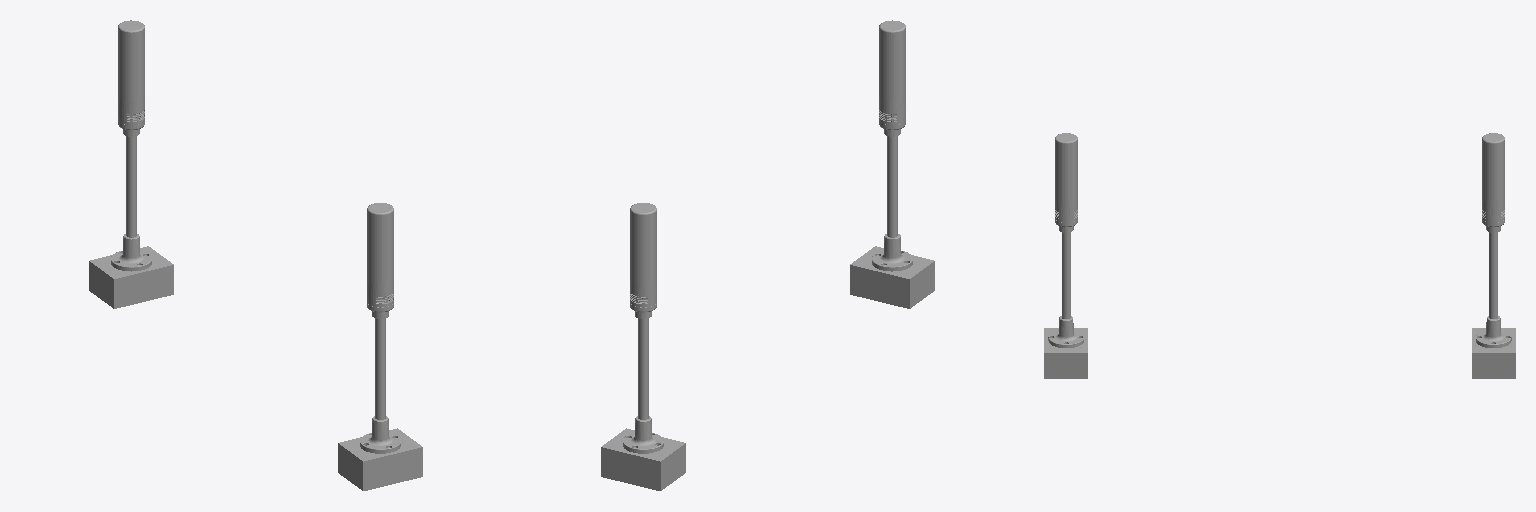
The robot description file, URDF, robot "palletizer_model":
<?xml version="1.0" ?>
<robot name="palletizer_model" xmlns:xacro="http://www.ros.org/wiki/xacro">
	<link name ="world"/>
	<joint name="light_ang_joint" type="fixed">
		<parent link="world"/>
		<child link="light_angle"/>
		<origin xyz = "292.084 -415 0" rpy="0 0 0" />
		<axis xyz="0 1 0" />
	</joint>

	<link name="light_angle">
		<collision>
			<origin xyz = "0 0 0" rpy="0 0 0" />
			<geometry>
				<mesh filename="package://poligon_pkg/meshes/light.stl" scale="1 1 1"/>
			</geometry>
		</collision>
		<visual>
			<geometry>
				<mesh filename="package://poligon_pkg/meshes/light.stl" scale="1 1 1"/>
			</geometry>
			<material name="grey">
    				<color rgba="0.7 0.7 0.7 1.0"/>
  			</material>
		</visual>
	</link>

	<joint name="light_pal_joint" type="fixed">
		<parent link="world"/>
		<child link="light_palletizer"/>
		<origin xyz = "292.084 415 0" rpy="0 0 0" />
		<axis xyz="0 1 0" />
	</joint>

	<link name="light_palletizer">
		<collision>
			<origin xyz = "0 0 0" rpy="0 0 0" />
			<geometry>
				<mesh filename="package://poligon_pkg/meshes/light.stl" scale="1 1 1"/>
			</geometry>
		</collision>
		<visual>
			<geometry>
				<mesh filename="package://poligon_pkg/meshes/light.stl" scale="1 1 1"/>
			</geometry>
			<material name="grey">
    				<color rgba="0.7 0.7 0.7 1.0"/>
  			</material>
		</visual>
	</link>
</robot>

--- What the picture shows (computed from the rendered views, not written in the file) ---
Views: 3 orthographic renders of the robot side by side, from view 1: azimuth 30°, elevation 25°; view 2: azimuth 150°, elevation 25°; view 3: azimuth 270°, elevation 25°.
Robot: palletizer_model — 3 links, 2 joints (2 fixed); root link world; default pose: every joint at zero.
Visible links, largest first — view 1: light_angle, light_palletizer; view 2: light_palletizer, light_angle; view 3: light_angle, light_palletizer.
Boxes of the visible links, bbox=[...] form: light_angle: bbox=[338, 203, 422, 490]; light_palletizer: bbox=[89, 20, 173, 308]; light_palletizer: bbox=[601, 203, 685, 490]; light_angle: bbox=[850, 20, 934, 308]; light_angle: bbox=[1044, 133, 1087, 378]; light_palletizer: bbox=[1472, 133, 1515, 378].
Bounding box of the posed robot: 115 × 915 × 491 m (x, y, z).
2 mesh visuals loaded from 1 distinct referenced files (1 binary STL).